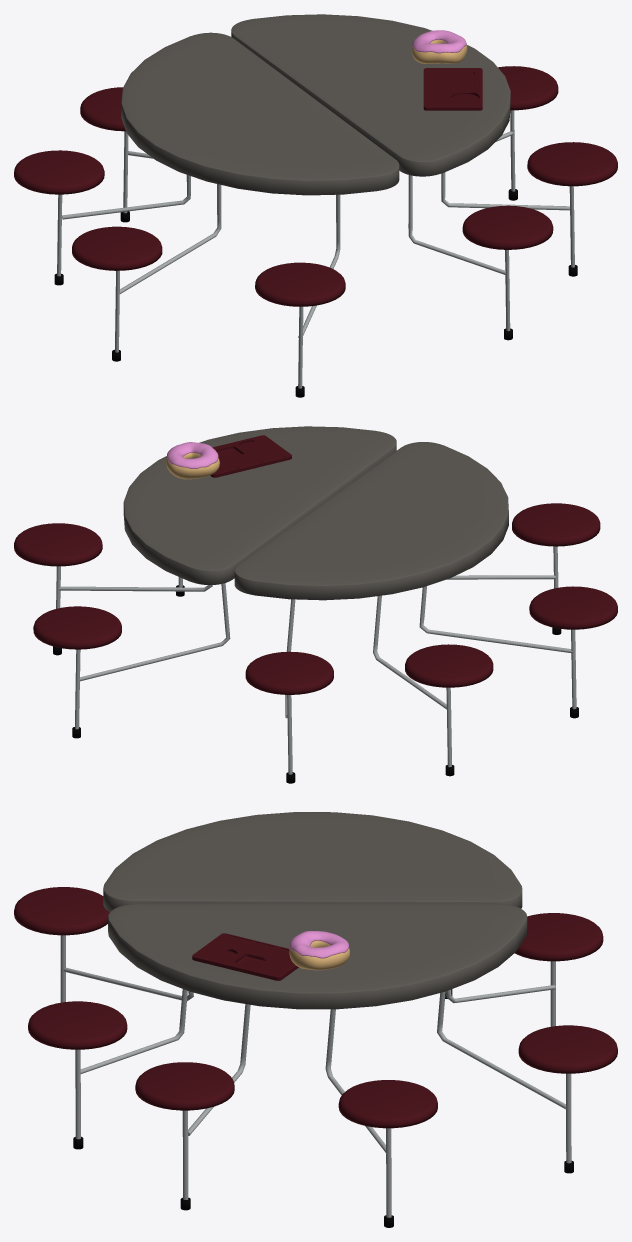
File: cafetable.fbx
The picture shows the model from 3 angles, top to bottom: view 1: azimuth 30°, elevation 25°; view 2: azimuth 150°, elevation 25°; view 3: azimuth 270°, elevation 25°; orthographic projection. The views are drawn at different scales.
Visible parts, largest first — view 1: Cylinder.012, Cube.005, icing, donut; view 2: Cylinder.012, Cube.005, icing, donut; view 3: Cylinder.012, Cube.005, icing, donut.
Boxes of the visible parts, x1=… form: Cylinder.012: x1=14, y1=14, x2=617, y2=397; Cube.005: x1=423, y1=68, x2=482, y2=110; icing: x1=412, y1=30, x2=466, y2=53; donut: x1=412, y1=39, x2=467, y2=63; Cylinder.012: x1=14, y1=426, x2=617, y2=783; Cube.005: x1=210, y1=435, x2=291, y2=477; icing: x1=167, y1=442, x2=218, y2=468; donut: x1=166, y1=452, x2=219, y2=479; Cylinder.012: x1=14, y1=812, x2=617, y2=1227; Cube.005: x1=192, y1=933, x2=298, y2=980; icing: x1=290, y1=931, x2=349, y2=958; donut: x1=289, y1=940, x2=349, y2=970.
Size of the model in its own units: 1107 by 413 by 979.
